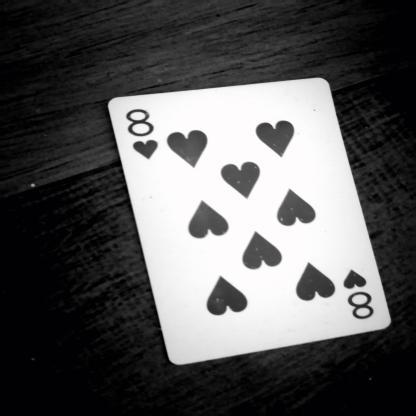8H: (121, 98, 162, 172), (336, 265, 383, 326)
